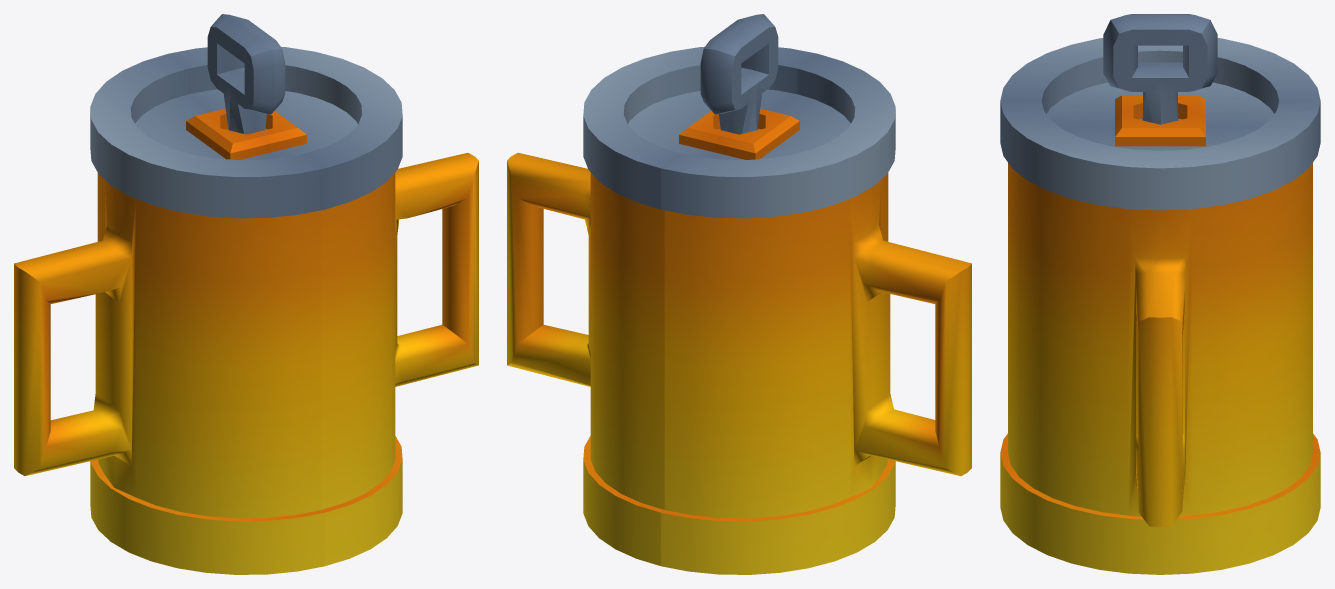
File: CHIPS_escapepod1.fbx
The picture shows the model from 3 angles, left to right: view 1: azimuth 30°, elevation 25°; view 2: azimuth 150°, elevation 25°; view 3: azimuth 270°, elevation 25°; orthographic projection. The views are drawn at different scales.
Parts seen in each view (by area): view 1: body; view 2: body; view 3: body.
Boxes of the visible parts, x1=… form: body: x1=14, y1=14, x2=478, y2=574; body: x1=507, y1=14, x2=971, y2=574; body: x1=1000, y1=14, x2=1320, y2=574.
Size of the model in its own units: 0.00492 by 0.00496 by 0.00292.
Materials: 1 (1 with a texture image).
